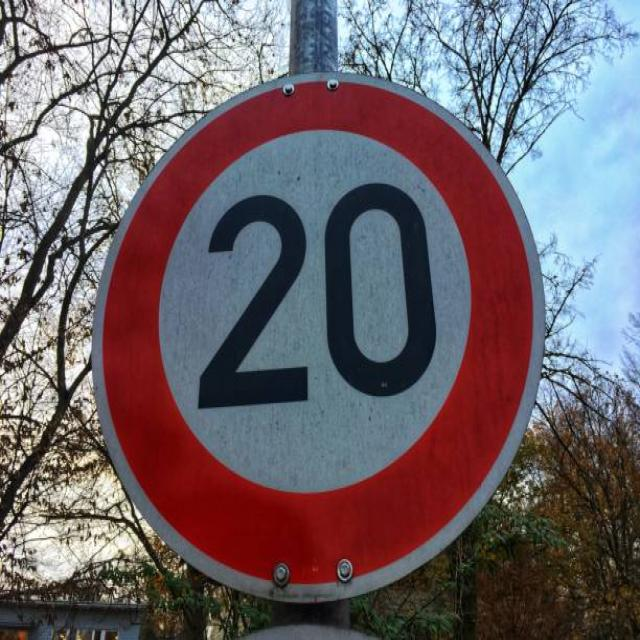speed_limit_20: (88, 62, 552, 606)
